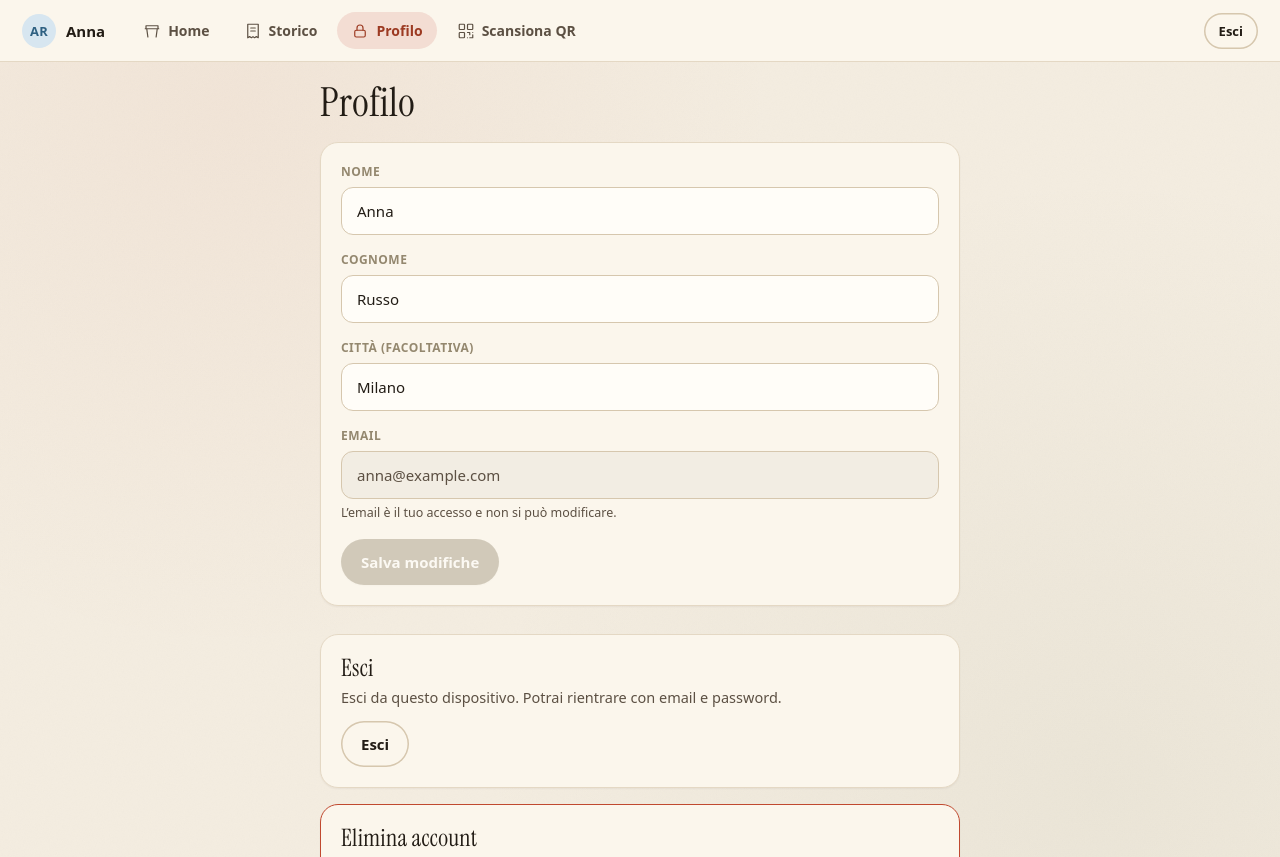
profilo: dati › modifica e salva: aggiorna anche il nome nell’intestazione e nella memoria
This screenshot has width=1280, height=857.
Replace the text in the field labelled "Nome" with "Annalisa" at (640, 211), box [341,187,939,235]
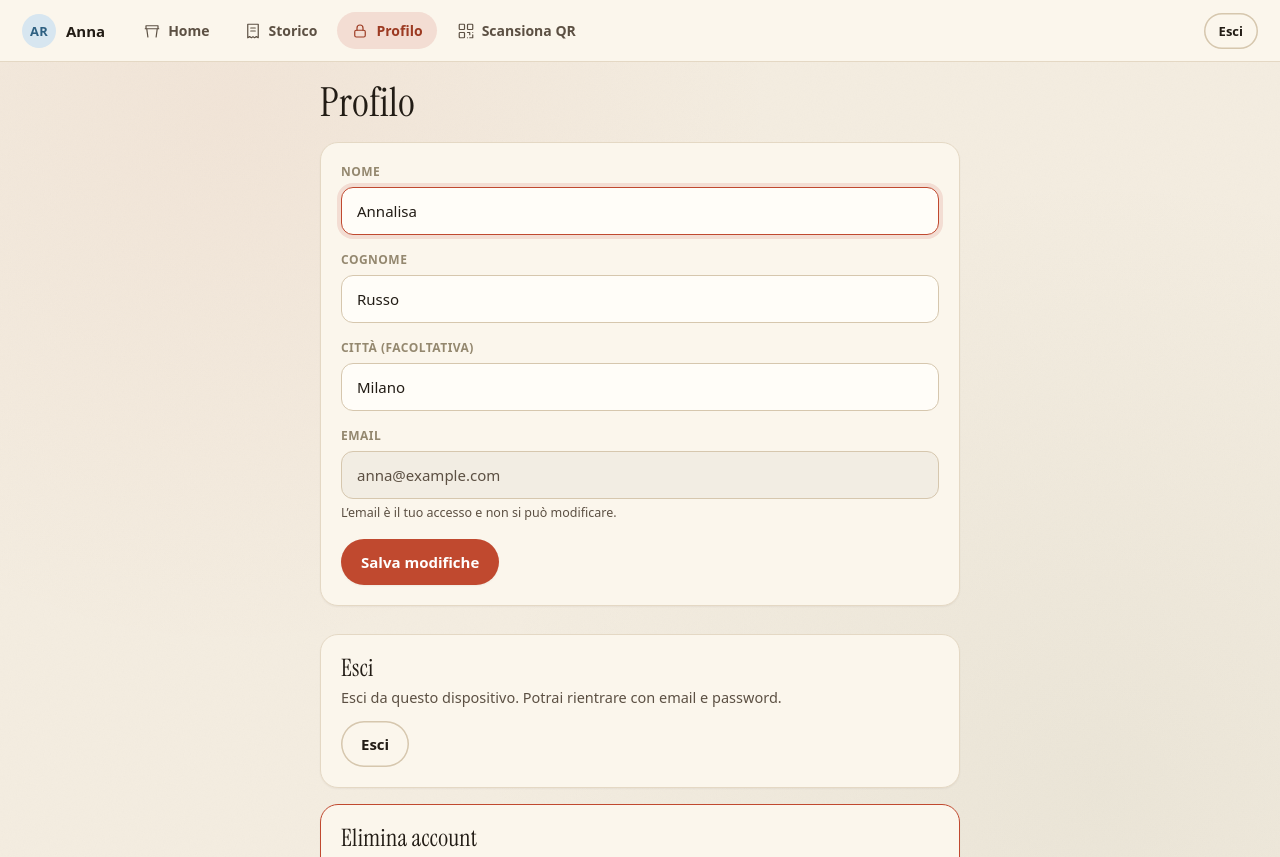
Clear the field labelled "Città (facoltativa)" at (640, 387), box [341,363,939,411]
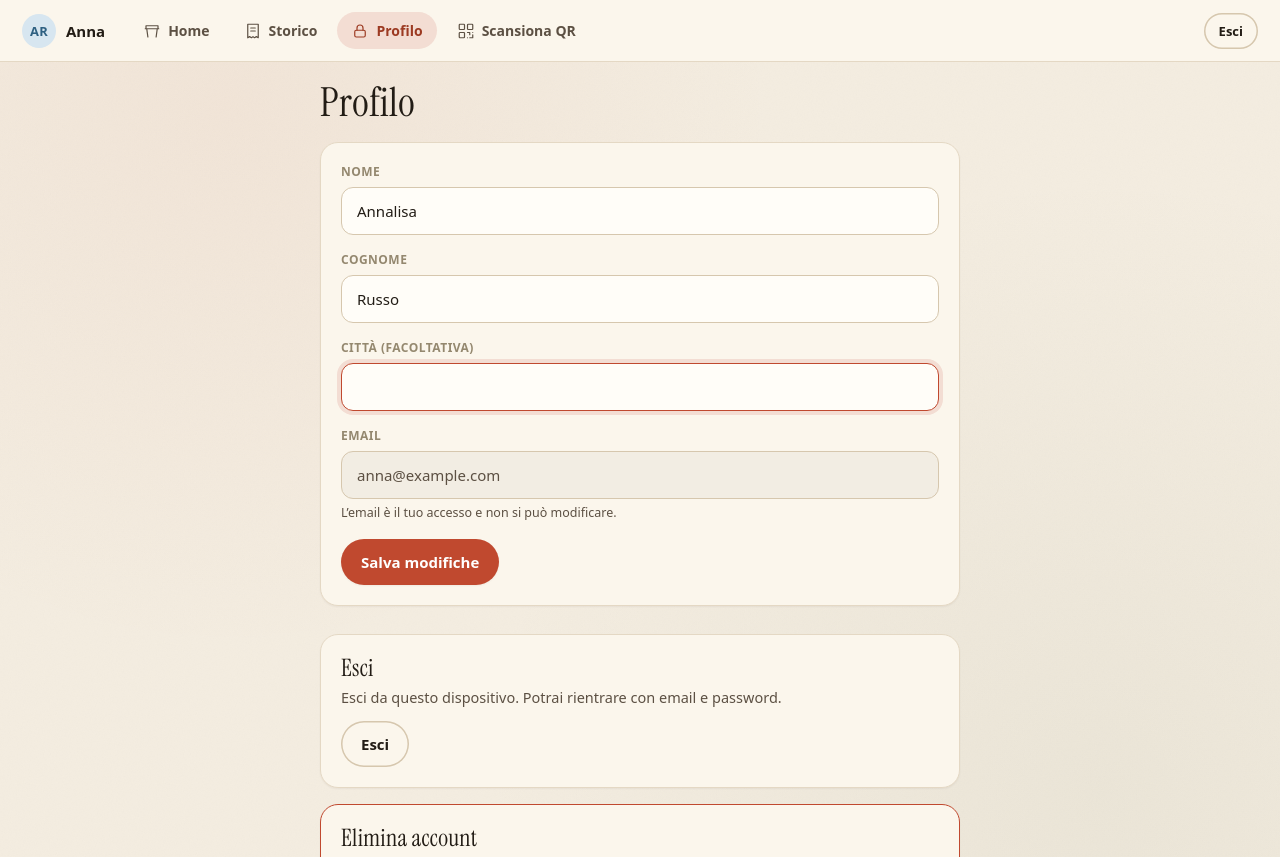
Click the button "Salva modifiche".
click(420, 562)  # box [341,539,499,585]
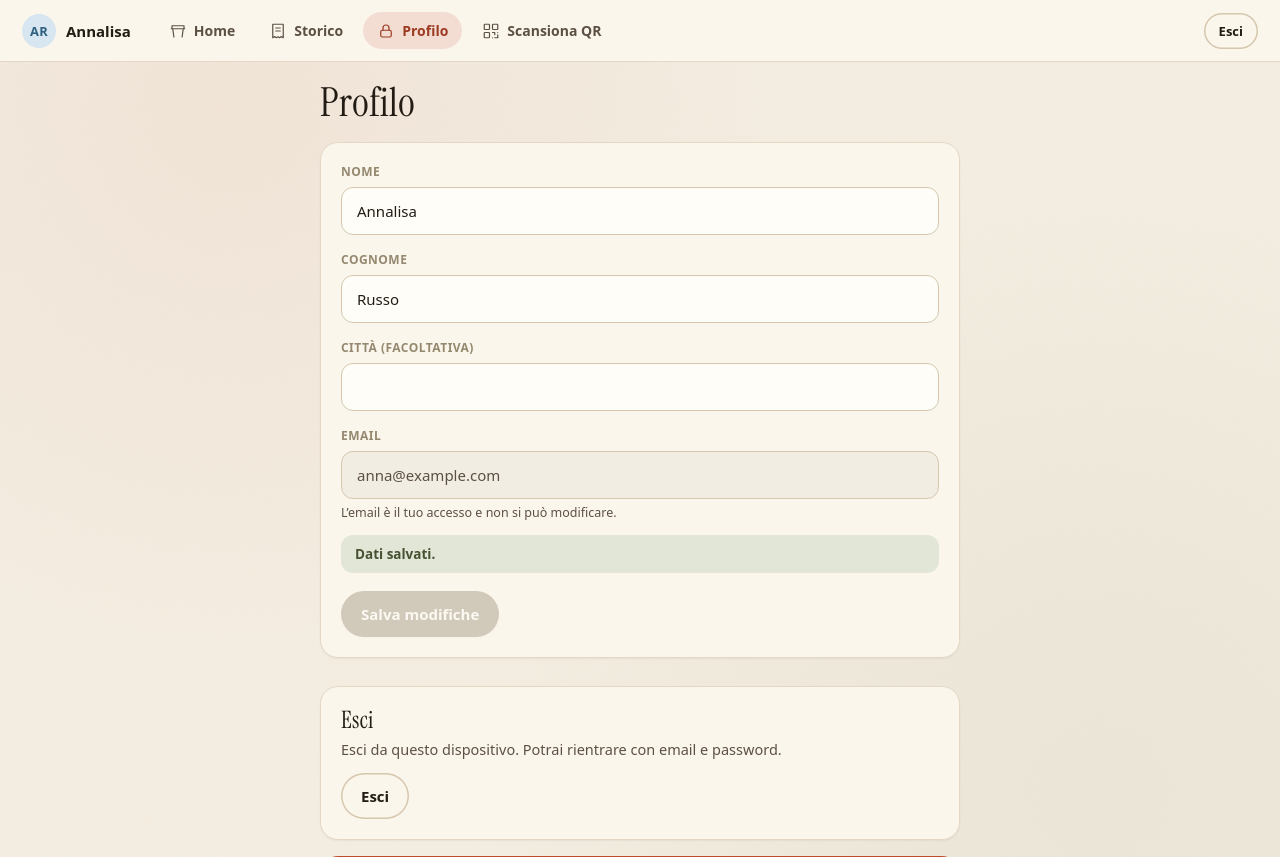
Expected: the text "Dati salvati." is shown, [341,535,939,573]
Expected: the text "Annalisa" is shown, [66,20,131,40]
